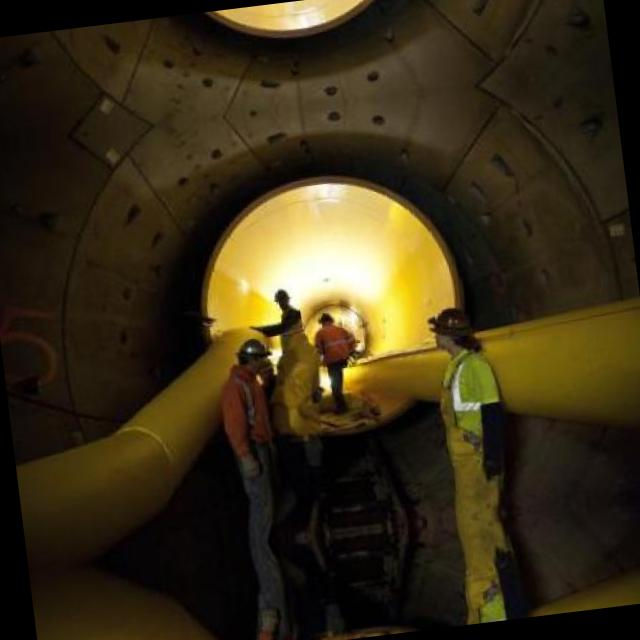helmet: (225, 328, 271, 382), (428, 297, 473, 351), (265, 284, 292, 314)
